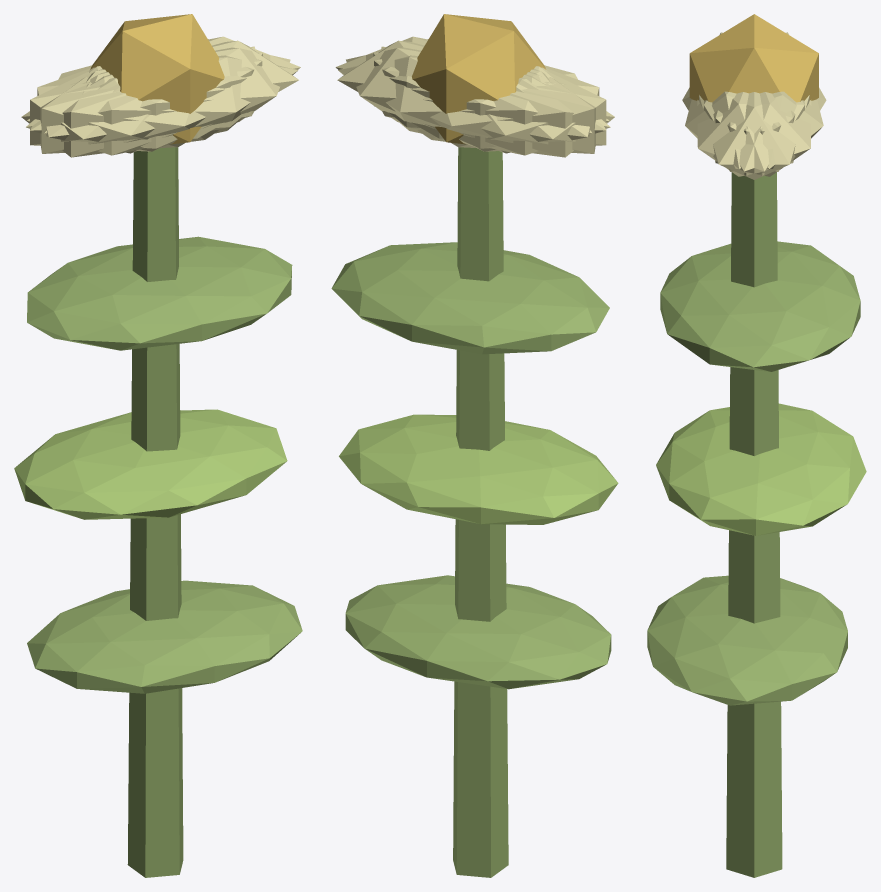
Rendered from guzmania-lingulata.glb.
3 views of the same model, side by side, from view 1: azimuth 30°, elevation 25°; view 2: azimuth 150°, elevation 25°; view 3: azimuth 270°, elevation 25° (orthographic).
Parts seen in each view (by area): view 1: stem, leaf0, leaf1, leaf2, center, petal1, petal6, petal2, petal5, petal7, petal0, petal4 (+2 smaller); view 2: stem, leaf1, leaf2, leaf0, center, petal8, petal3, petal7, petal4, petal2, petal0, petal5 (+2 smaller); view 3: stem, leaf2, leaf1, leaf0, center, petal0, petal5, petal4, petal1, petal8.
Boxes of the visible parts, bbox=[...] form: stem: bbox=[127, 147, 183, 877]; leaf0: bbox=[27, 580, 302, 693]; leaf1: bbox=[14, 409, 287, 519]; leaf2: bbox=[27, 236, 292, 350]; center: bbox=[90, 14, 224, 144]; petal1: bbox=[26, 55, 298, 155]; petal6: bbox=[21, 67, 218, 157]; petal2: bbox=[40, 46, 255, 153]; petal5: bbox=[44, 47, 290, 148]; petal7: bbox=[30, 52, 262, 151]; petal0: bbox=[90, 40, 298, 138]; petal4: bbox=[27, 36, 300, 130]; stem: bbox=[453, 147, 508, 877]; leaf1: bbox=[339, 414, 618, 524]; leaf2: bbox=[331, 242, 609, 354]; leaf0: bbox=[345, 575, 611, 689]; center: bbox=[412, 14, 546, 144]; petal8: bbox=[338, 55, 610, 155]; petal3: bbox=[417, 67, 614, 157]; petal7: bbox=[381, 46, 595, 153]; petal4: bbox=[346, 47, 591, 148]; petal2: bbox=[373, 52, 606, 151]; petal0: bbox=[337, 40, 546, 138]; petal5: bbox=[335, 36, 609, 130]; stem: bbox=[726, 172, 782, 877]; leaf2: bbox=[660, 241, 860, 371]; leaf1: bbox=[656, 403, 866, 535]; leaf0: bbox=[647, 575, 847, 705]; center: bbox=[689, 14, 818, 102]; petal0: bbox=[699, 92, 809, 179]; petal5: bbox=[697, 92, 804, 176]; petal4: bbox=[704, 92, 811, 176]; petal1: bbox=[685, 91, 795, 169]; petal8: bbox=[713, 91, 823, 169].
Bounding box in the file's own units: 0.1452 × 0.4363 × 0.1039.
